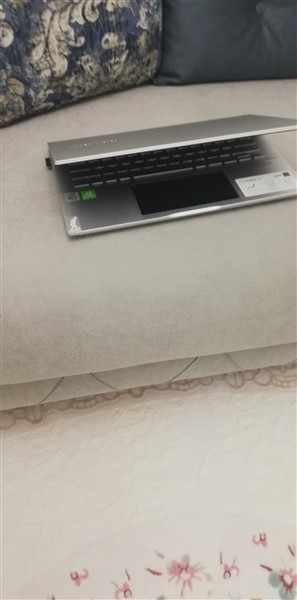laptop: (45, 110, 297, 238)
